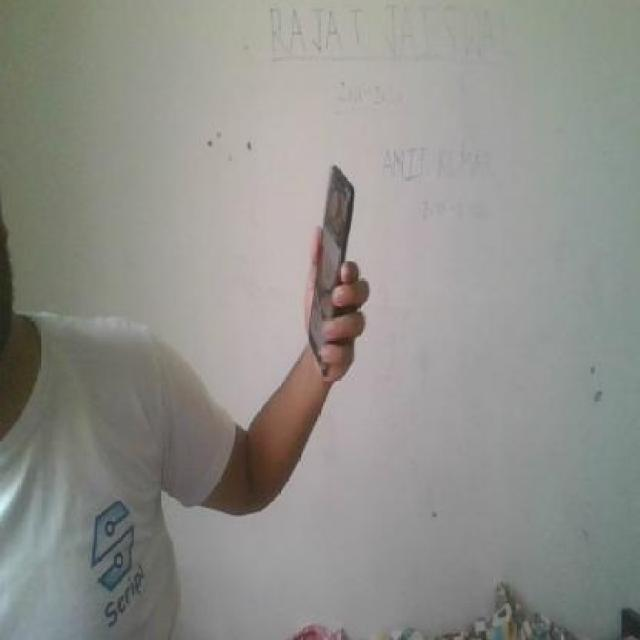Phone: (303, 162, 359, 374)
